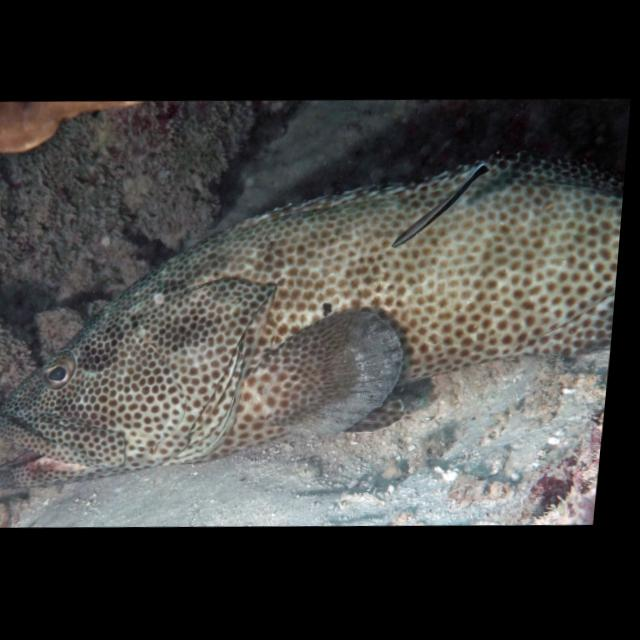Groupers: (0, 144, 627, 495)
